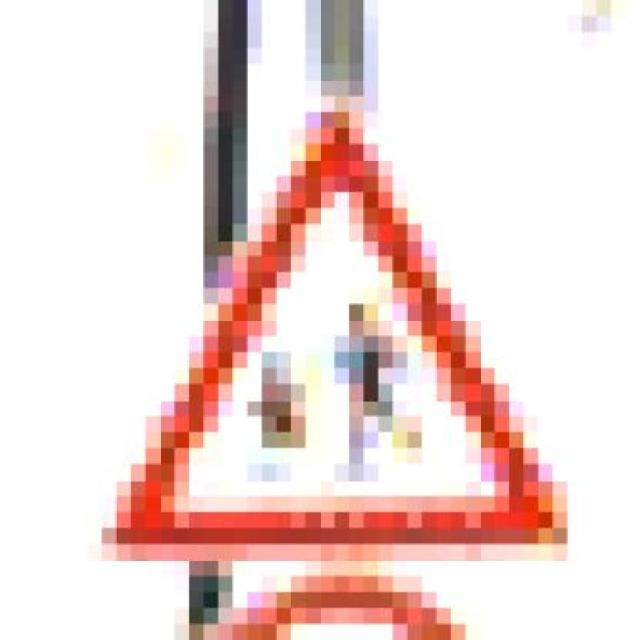Beware of children: (102, 96, 596, 576)
